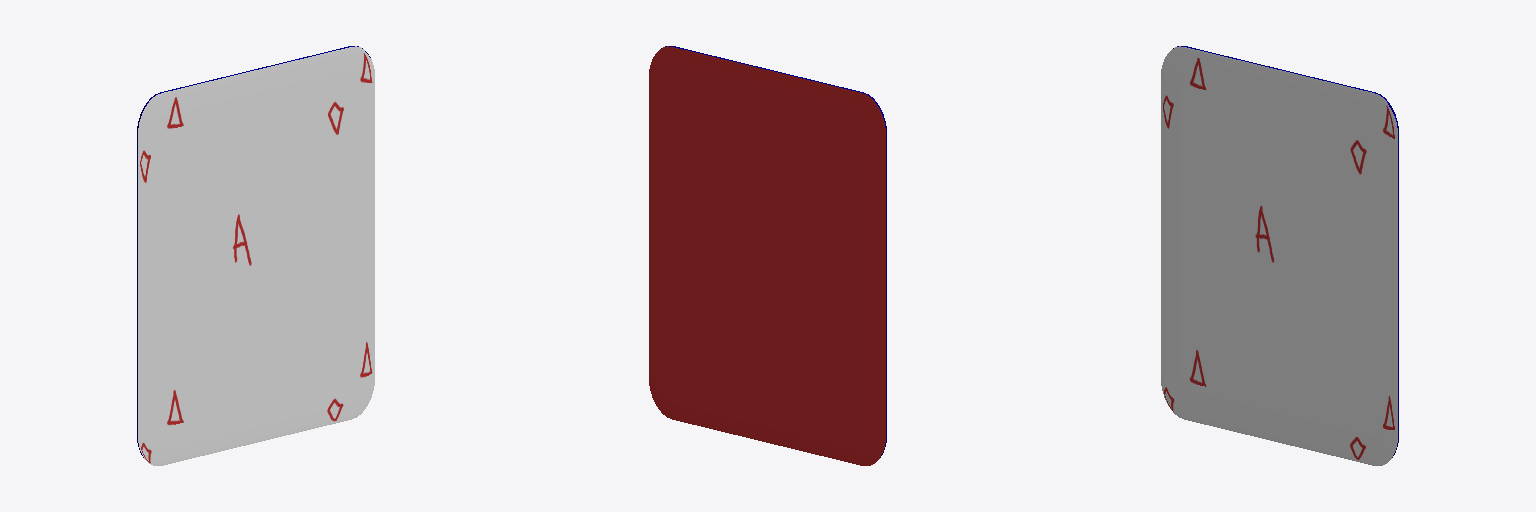
3 views of the same model, side by side, from view 1: azimuth 30°, elevation 25°; view 2: azimuth 150°, elevation 25°; view 3: azimuth 330°, elevation 25° (orthographic).
Parts seen in each view (by area): view 1: Card; view 2: Card; view 3: Card.
Part boxes in pixels (x1,y1,x2,y2): Card: (137, 46, 374, 465); Card: (649, 46, 886, 465); Card: (1161, 46, 1398, 465).
Bounding box in the file's own units: 2 × 3 × 0.02.
3 materials, 2 textured.